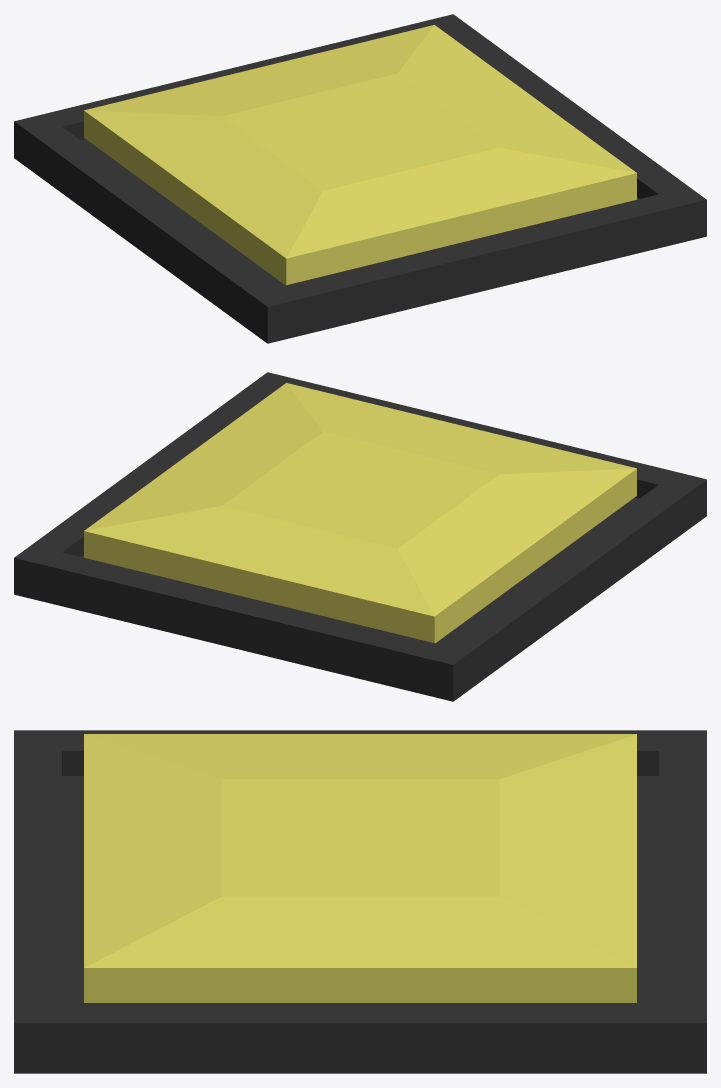
The model's file is press_plate.fbx.
The picture shows the model from 3 angles, top to bottom: view 1: azimuth 30°, elevation 25°; view 2: azimuth 150°, elevation 25°; view 3: azimuth 270°, elevation 25°; orthographic projection. The views are drawn at different scales.
Visible parts, largest first — view 1: Cube.004, Cube.003; view 2: Cube.004, Cube.003; view 3: Cube.004, Cube.003.
Part boxes in pixels (left/top/right/bottom): Cube.004: left=84, top=25, right=636, bottom=285; Cube.003: left=14, top=14, right=706, bottom=343; Cube.004: left=84, top=383, right=636, bottom=643; Cube.003: left=14, top=372, right=706, bottom=701; Cube.004: left=84, top=734, right=636, bottom=1002; Cube.003: left=14, top=730, right=706, bottom=1073.
Size of the model in its own units: 1000 by 142 by 1000.
